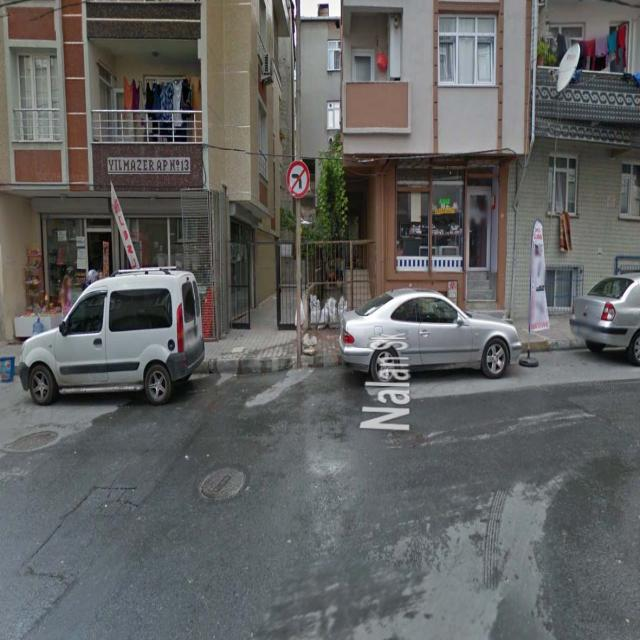soladonulmez: (287, 160, 310, 197)
